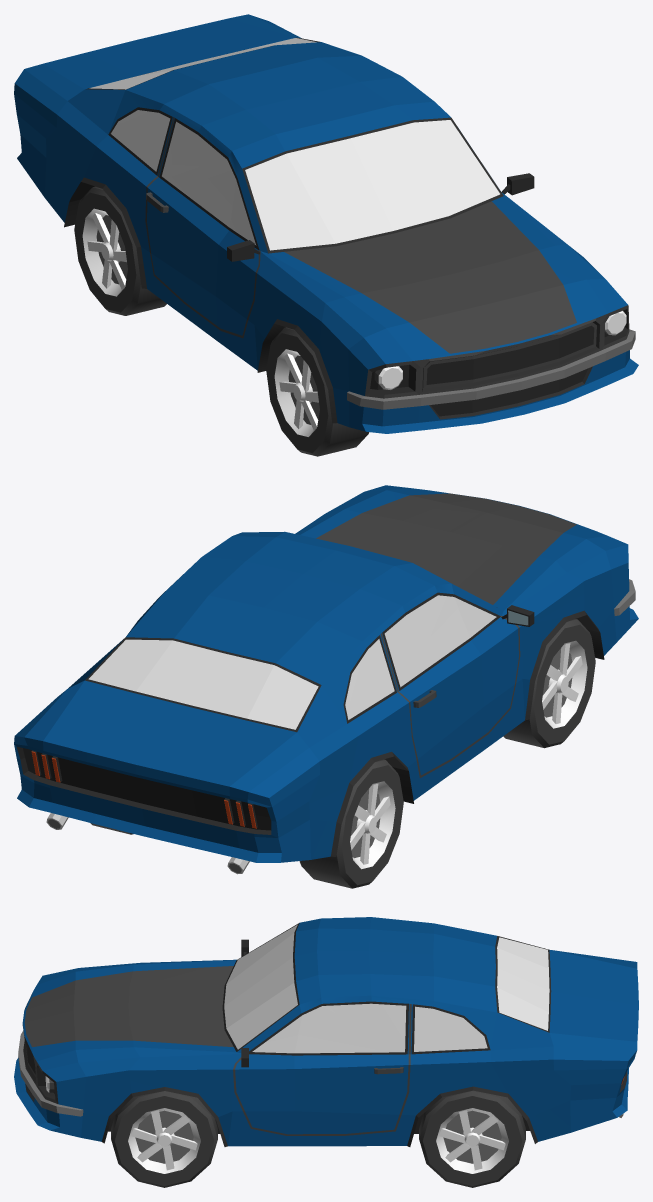
The model's file is N_Muscle Car_3.fbx.
3 views of the same model, one above another, from view 1: azimuth 30°, elevation 25°; view 2: azimuth 150°, elevation 25°; view 3: azimuth 270°, elevation 25° (orthographic). The views are drawn at different scales.
Visible parts, largest first — view 1: N_Muscle Car_3 Lod_0, N_Muscle Car_3 R Door, N_Muscle Car_3 FR Tire, N_Muscle Car_3 BR Tire; view 2: N_Muscle Car_3 Lod_0, N_Muscle Car_3 R Door, N_Muscle Car_3 BR Tire, N_Muscle Car_3 FR Tire; view 3: N_Muscle Car_3 Lod_0, N_Muscle Car_3 L Door, N_Muscle Car_3 BL Tire, N_Muscle Car_3 FL Tire.
Boxes of the visible parts, bbox=[...] form: N_Muscle Car_3 Lod_0: bbox=[14, 14, 638, 433]; N_Muscle Car_3 R Door: bbox=[145, 117, 260, 338]; N_Muscle Car_3 FR Tire: bbox=[266, 327, 369, 456]; N_Muscle Car_3 BR Tire: bbox=[74, 186, 166, 315]; N_Muscle Car_3 Lod_0: bbox=[14, 485, 638, 874]; N_Muscle Car_3 R Door: bbox=[380, 592, 534, 777]; N_Muscle Car_3 BR Tire: bbox=[299, 759, 403, 888]; N_Muscle Car_3 FR Tire: bbox=[503, 619, 595, 748]; N_Muscle Car_3 Lod_0: bbox=[14, 917, 638, 1146]; N_Muscle Car_3 L Door: bbox=[233, 1001, 411, 1135]; N_Muscle Car_3 BL Tire: bbox=[419, 1090, 525, 1187]; N_Muscle Car_3 FL Tire: bbox=[111, 1091, 217, 1187].
Size of what is drawn, in the model's own units: 2.05 by 1.5 by 4.58.
